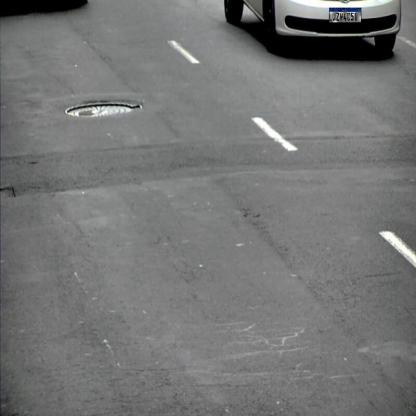PlacaM: (330, 8, 362, 23)
